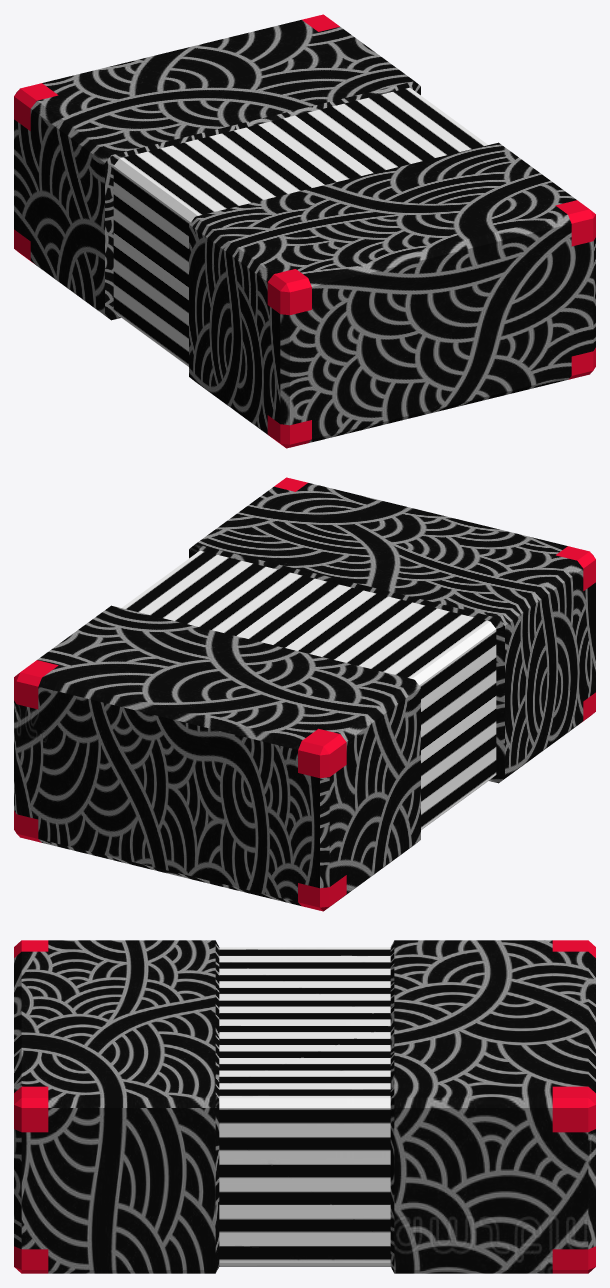
File: MovementPlatform.fbx
The picture shows the model from 3 angles, top to bottom: view 1: azimuth 30°, elevation 25°; view 2: azimuth 150°, elevation 25°; view 3: azimuth 270°, elevation 25°; orthographic projection. The views are drawn at different scales.
Parts seen in each view (by area): view 1: Platform, UpRightForwardLanter, UpLeftForwardLanter, DownRightForwardLanter, UpRightBackLanter, DownLeftForwardLanter; view 2: Platform, UpRightBackLanter, UpLeftBackLanter, DownRightBackLanter, UpRightForwardLanter, DownLeftBackLanter; view 3: Platform, UpLeftBackLanter, UpLeftForwardLanter, DownLeftBackLanter, DownLeftForwardLanter, UpRightBackLanter.
Part boxes in pixels (<box>): Platform: <box>14,20,595,442</box>; UpRightForwardLanter: <box>267,269,311,315</box>; UpLeftForwardLanter: <box>555,200,595,246</box>; DownRightForwardLanter: <box>267,415,311,448</box>; UpRightBackLanter: <box>14,83,58,130</box>; DownLeftForwardLanter: <box>568,347,595,379</box>; Platform: <box>14,483,595,905</box>; UpRightBackLanter: <box>298,728,346,778</box>; UpLeftBackLanter: <box>14,660,58,709</box>; DownRightBackLanter: <box>298,875,346,911</box>; UpRightForwardLanter: <box>556,546,595,590</box>; DownLeftBackLanter: <box>14,810,41,842</box>; Platform: <box>14,940,595,1273</box>; UpLeftBackLanter: <box>552,1086,595,1132</box>; UpLeftForwardLanter: <box>14,1086,48,1132</box>; DownLeftBackLanter: <box>552,1246,595,1273</box>; DownLeftForwardLanter: <box>14,1246,48,1273</box>; UpRightBackLanter: <box>552,940,595,957</box>.
Size of the model in its own units: 400 by 200 by 600.
